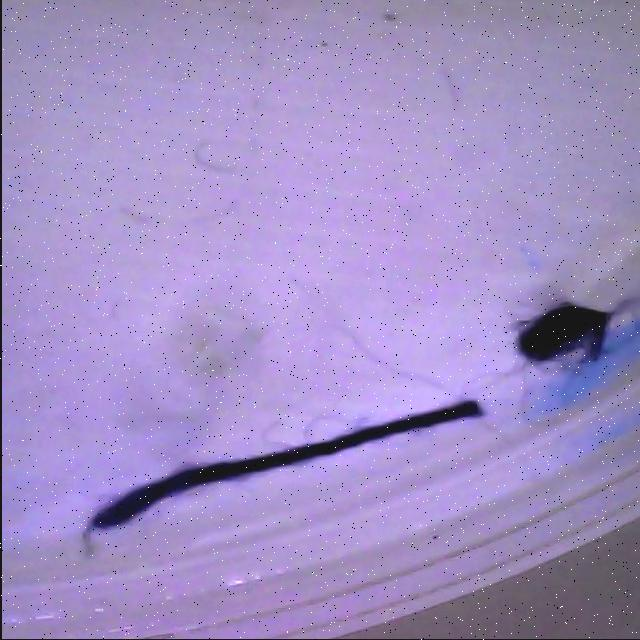Fibre: (74, 394, 494, 560), (270, 265, 466, 405), (104, 196, 258, 238), (178, 133, 246, 179)
